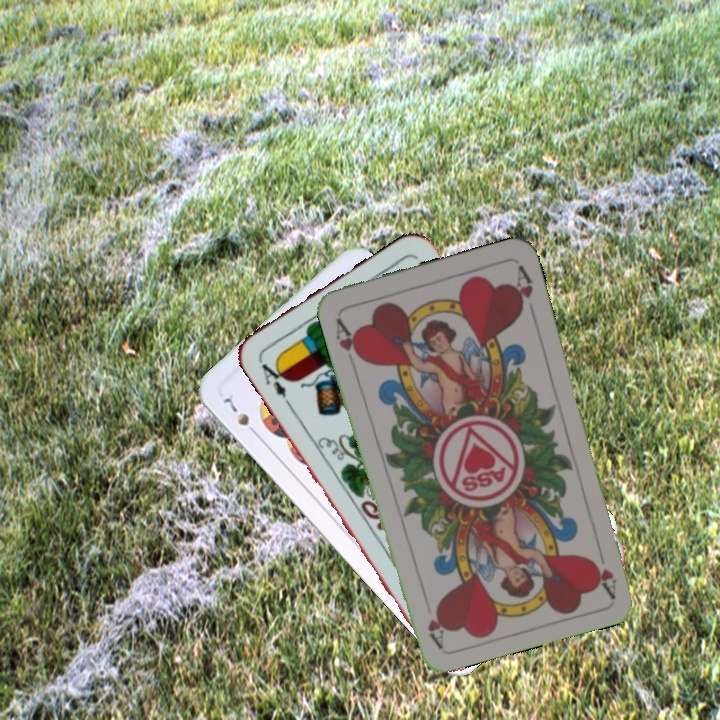EA: (254, 355, 292, 408)
HA: (586, 540, 619, 599), (331, 313, 366, 364)
S7: (219, 393, 261, 439)
